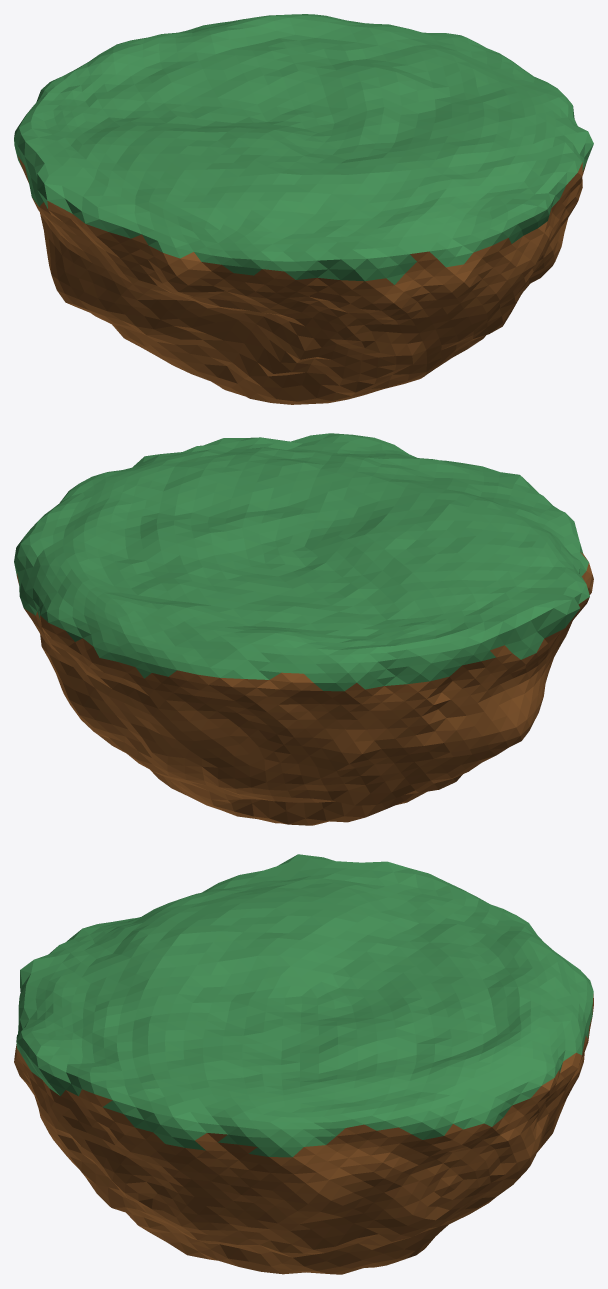
File: forest_island_7fbx.fbx
The picture shows the model from 3 angles, top to bottom: view 1: azimuth 30°, elevation 25°; view 2: azimuth 150°, elevation 25°; view 3: azimuth 270°, elevation 25°; orthographic projection. The views are drawn at different scales.
Parts seen in each view (by area): view 1: Icosphere.018; view 2: Icosphere.018; view 3: Icosphere.018.
Boxes of the visible parts, x1,y1,x2,y2 form: Icosphere.018: (14, 14, 593, 404); Icosphere.018: (14, 433, 593, 825); Icosphere.018: (14, 854, 593, 1274).
Bounding box in the file's own units: 5016 × 2519 × 4794.
